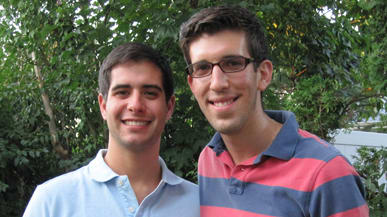bare: (188, 77, 260, 134), (100, 100, 172, 150)
